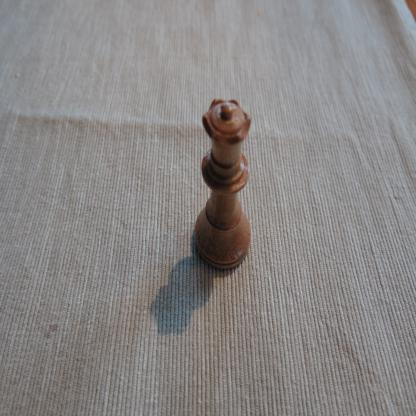white-queen: (195, 96, 252, 272)
